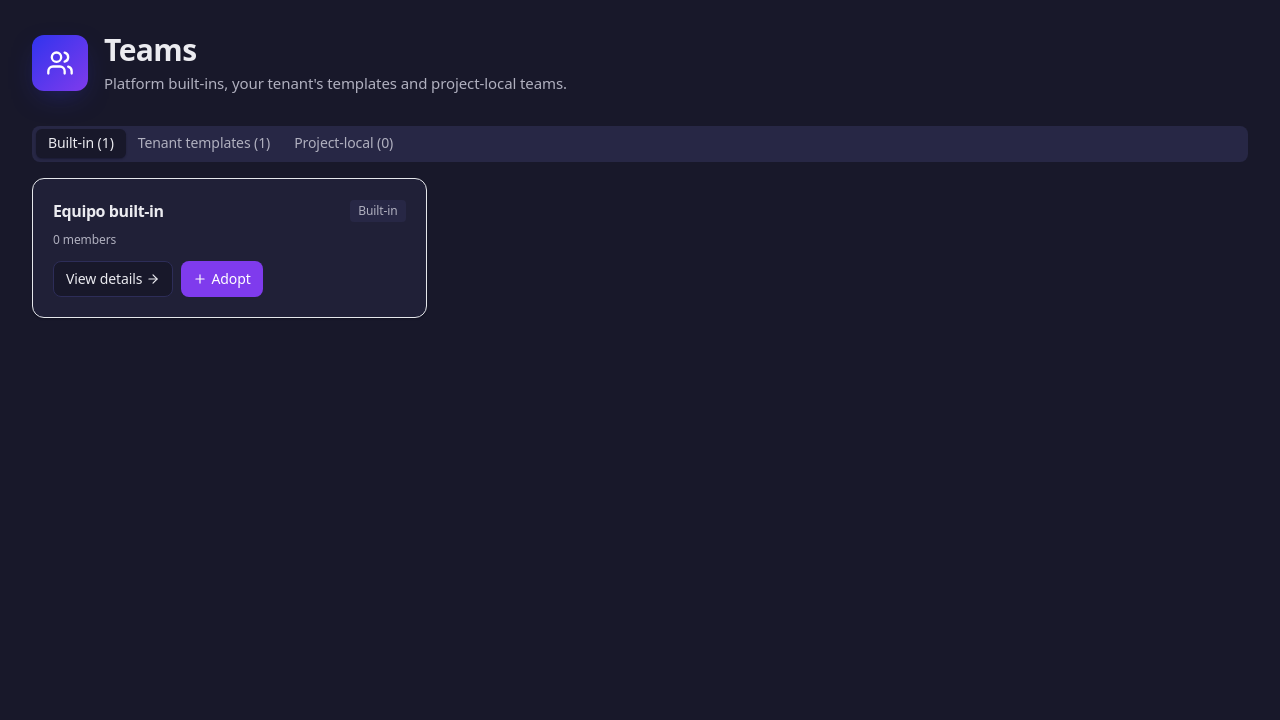
Test: lista de equipos › el diálogo de adopción — el que escondía veinte textos — se traduce entero
Click the button with test id "team-adopt-team-b" at (222, 279), box [182,261,263,297]
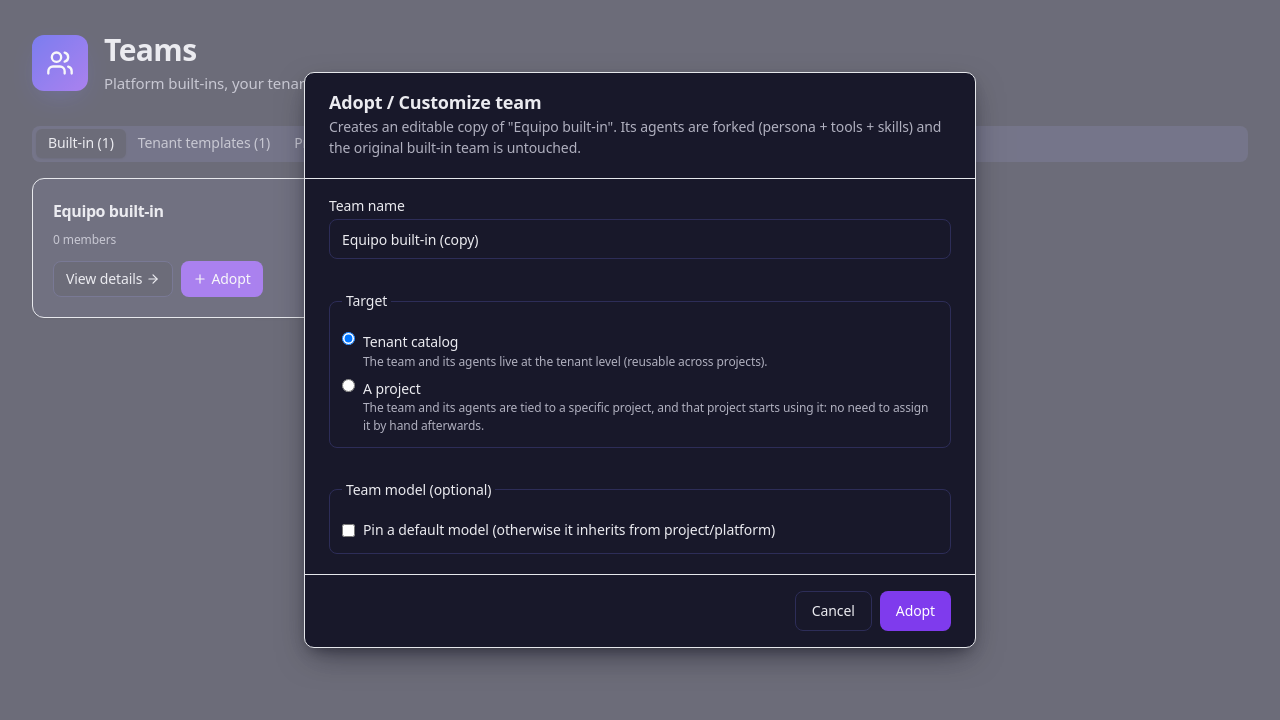
Check: the heading "Adopt / Customize team" is shown, box [329,90,542,114]
Check: the text "Target" is shown, box [346,291,387,310]
Check: the text "Tenant catalog" is shown, box [363,332,458,351]
